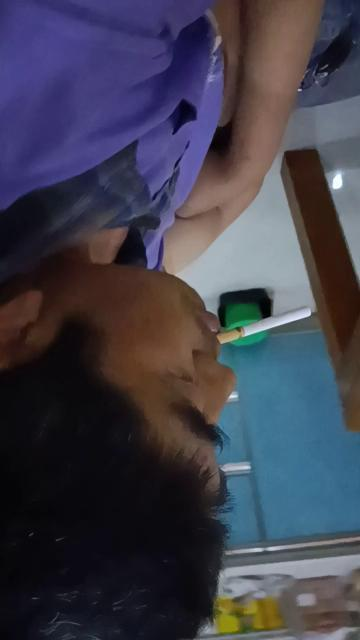Smoking: (217, 306, 311, 344)
